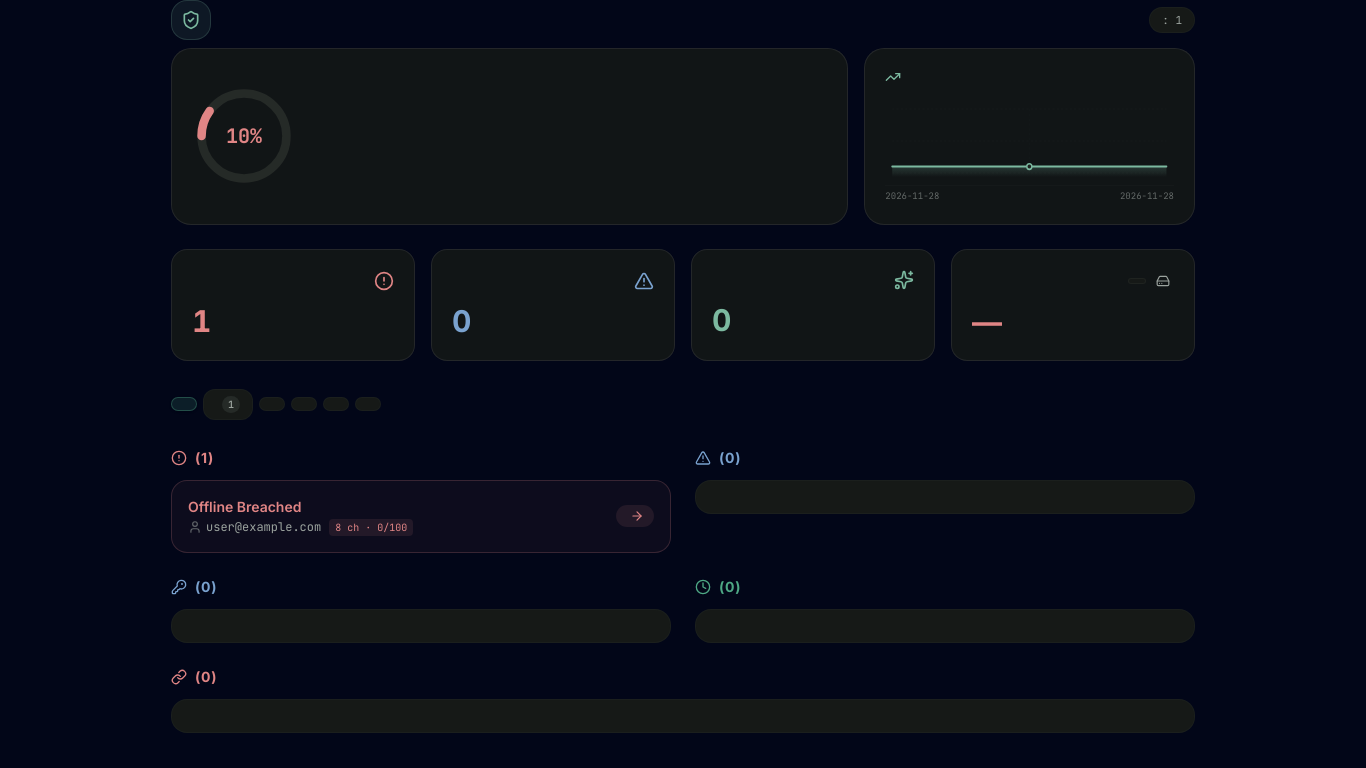
SecurityAudit › allows selecting, scanning, and clearing a local offline HIBP database in Tauri runtime
Click the button with test id "security-audit-hibp-local-select" at (1163, 280), box [1152,270,1174,292]
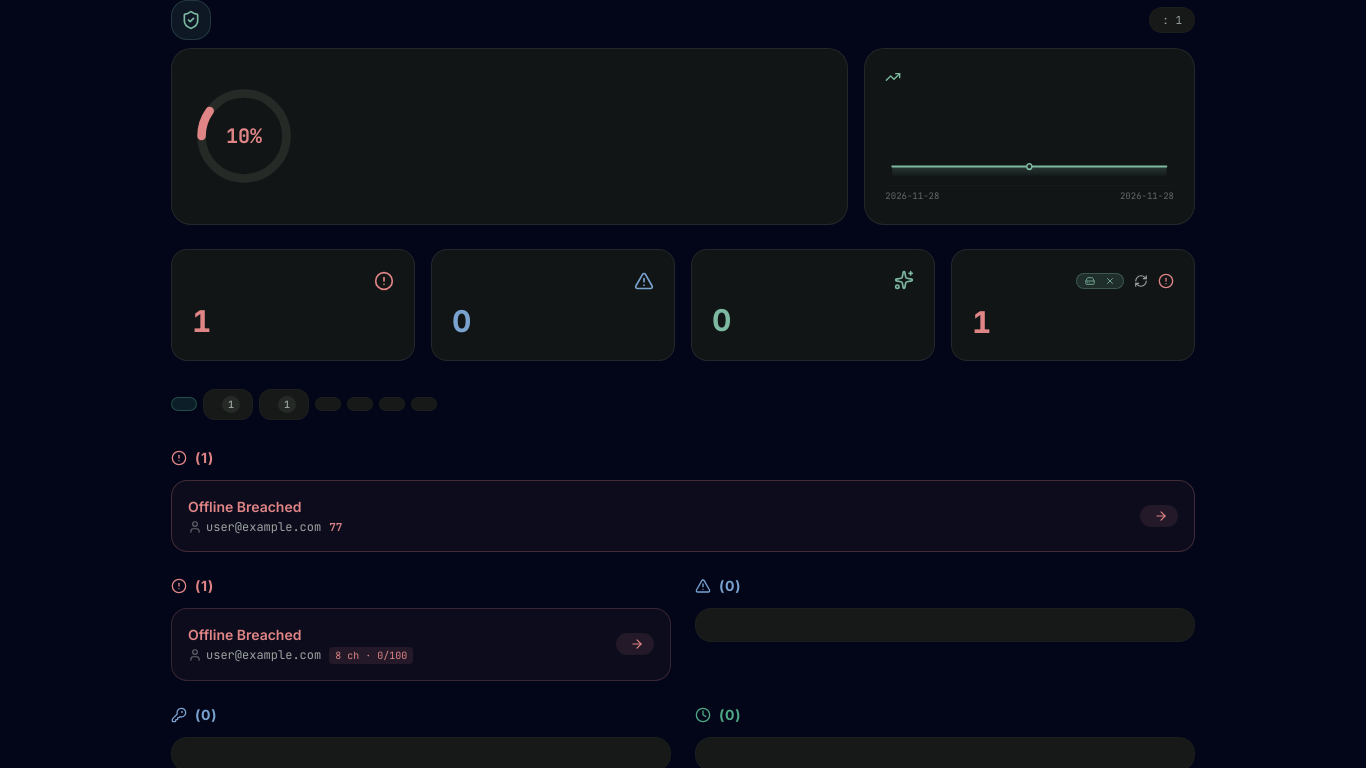
Check: the element with test id "security-audit-hibp-local-badge" is shown, box [1076,272,1124,288]
Check: the text with test id "security-audit-pwned-count" reads "1", box [972,304,991,340]
Click the button with test id "security-audit-hibp-local-clear" at (1110, 280), box [1105,276,1115,286]
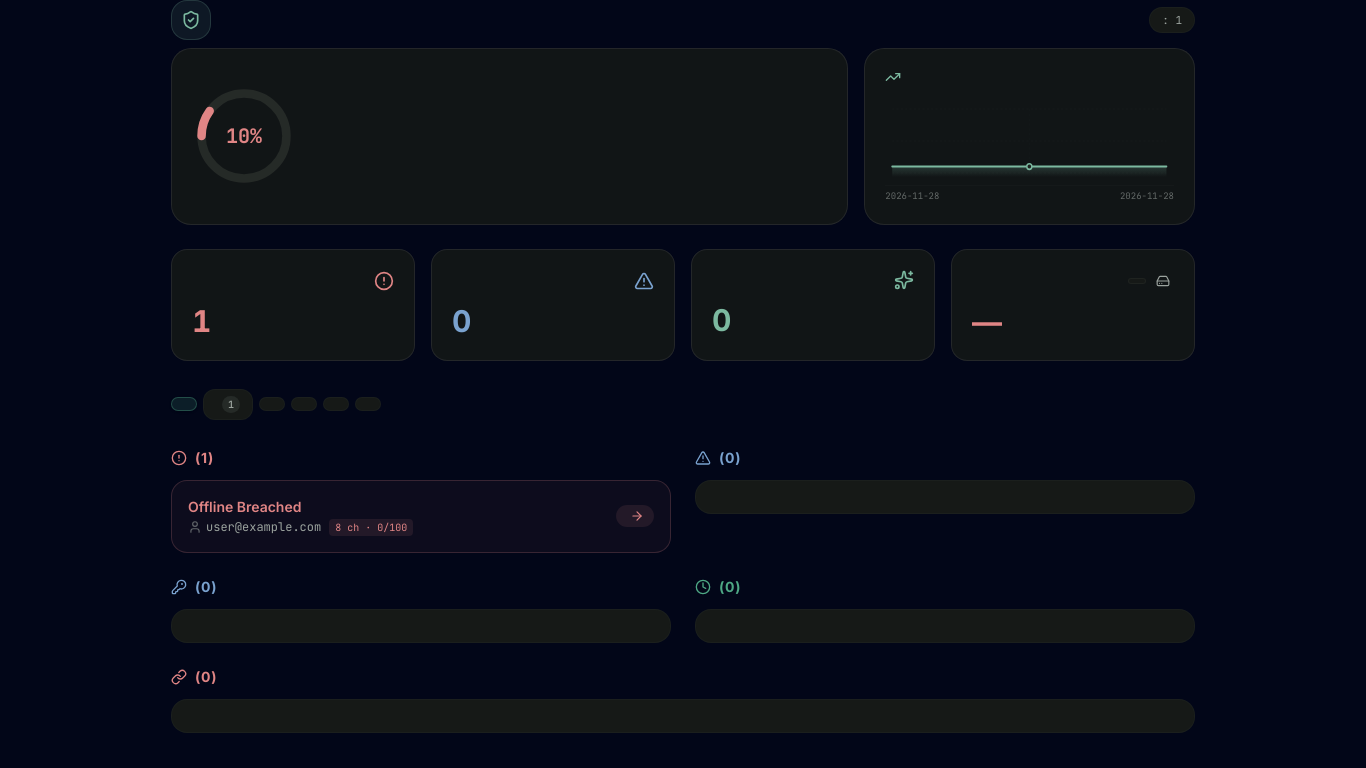
Check: the element with test id "security-audit-hibp-local-badge" is gone
Check: the text with test id "security-audit-pwned-count" reads "—", box [972,304,1002,340]
